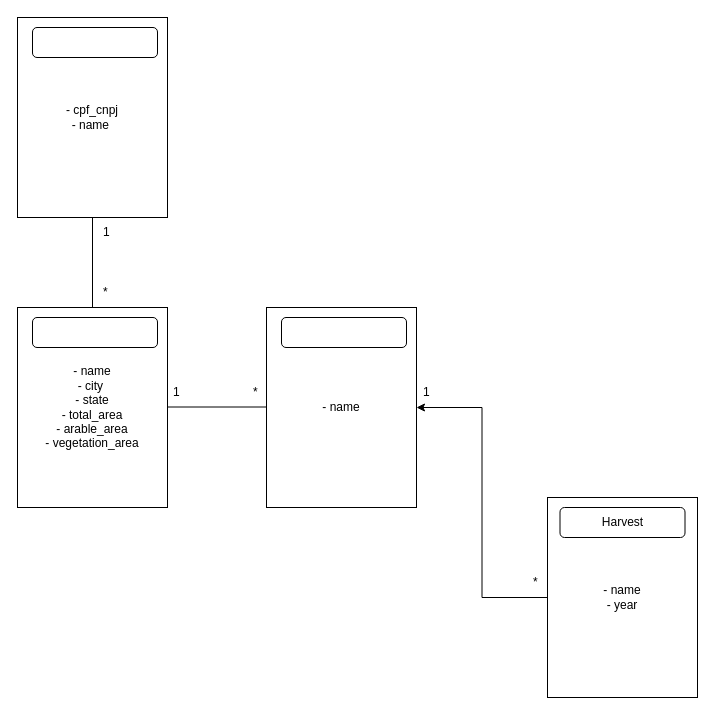
This 715x715 diagram has some shape labels left out. The centre of each missing label's shape, as x and y in pixels:
"Crop" goes at (343,332).
"Farm" goes at (95,332).
"Producer" goes at (95,42).
